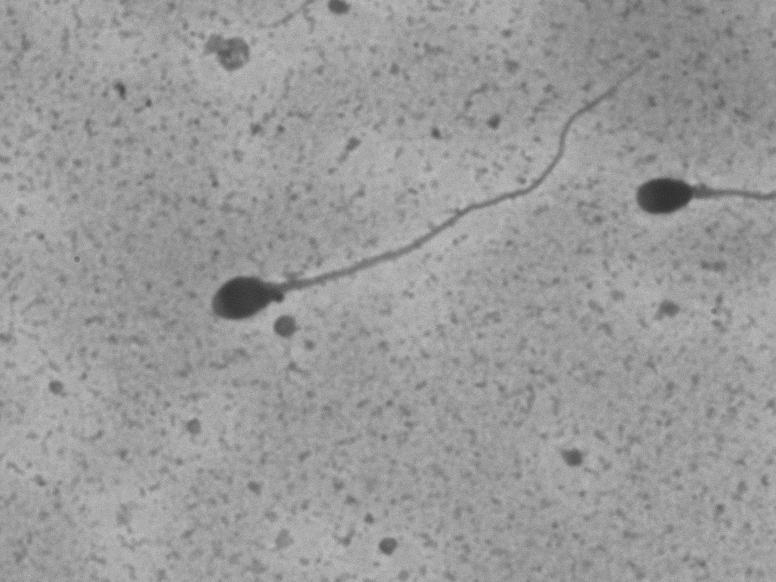Abnormal: (185, 57, 652, 339)
